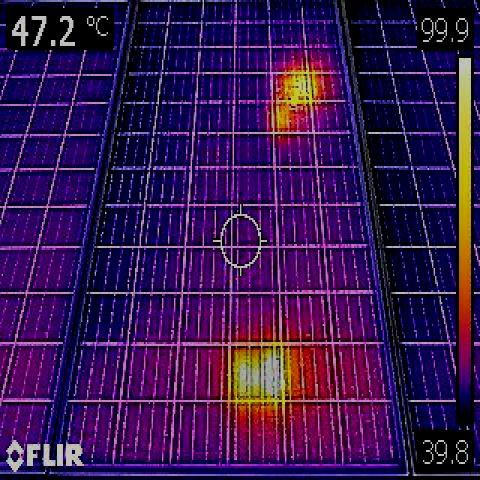fault: (266, 62, 324, 134), (233, 347, 279, 397)
